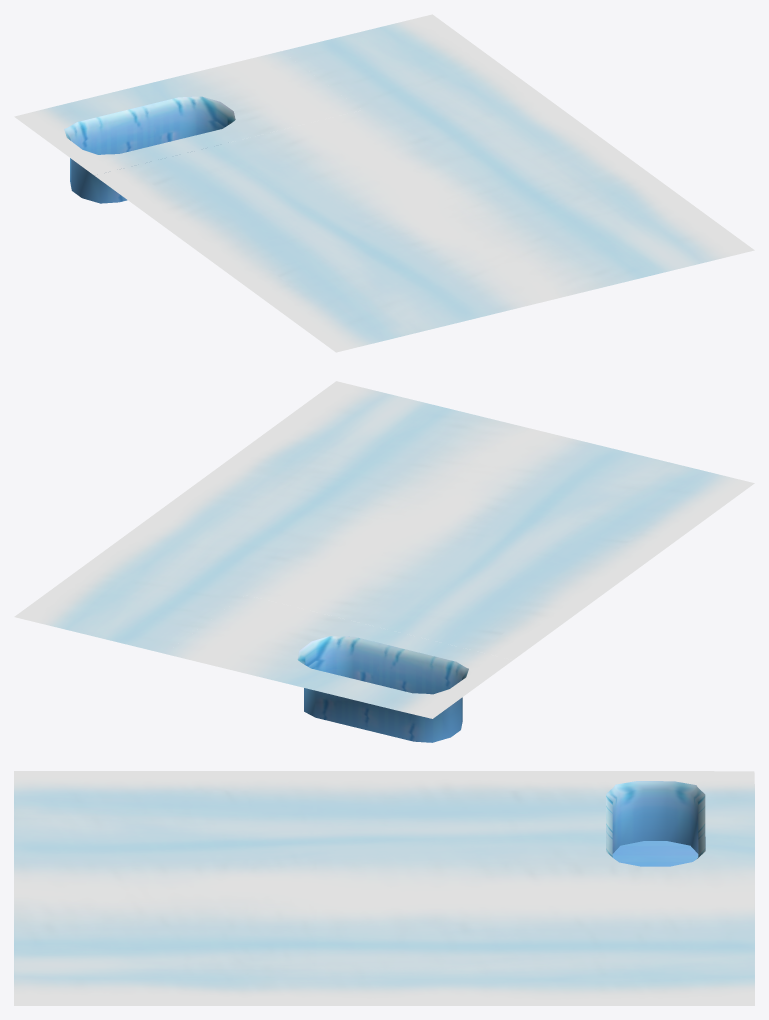
Rendered from Hole_M_01_L.FBX.
3 renders of one model, top to bottom at view 1: azimuth 30°, elevation 25°; view 2: azimuth 150°, elevation 25°; view 3: azimuth 270°, elevation 25°, orthographic. The views are drawn at different scales.
Visible parts, largest first — view 1: Object128; view 2: Object128; view 3: Object128.
Part boxes in pixels (x1,y1,x2,y2): Object128: (14, 14, 754, 352); Object128: (14, 381, 754, 742); Object128: (14, 771, 754, 1005).
Size of the model in its own units: 600 by 70 by 800.
